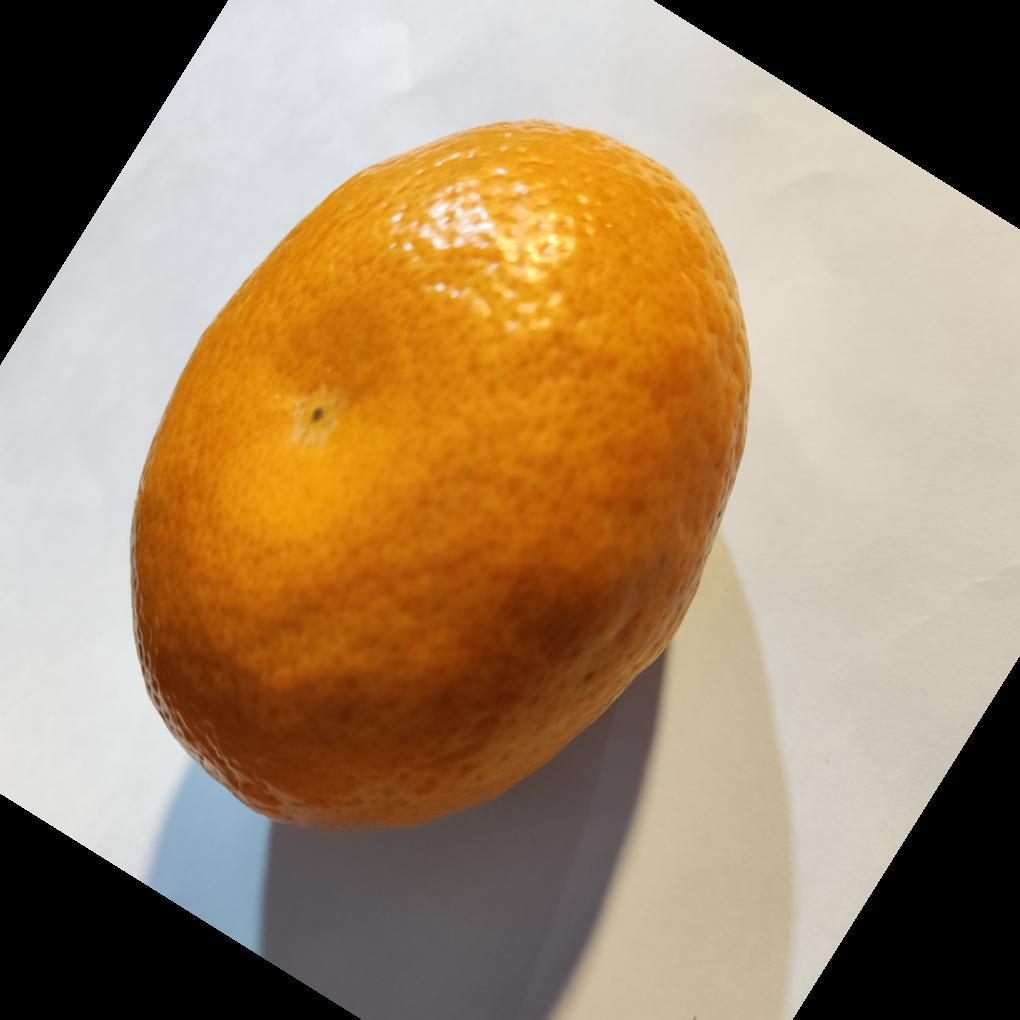FreshGuava: (126, 121, 753, 838)
